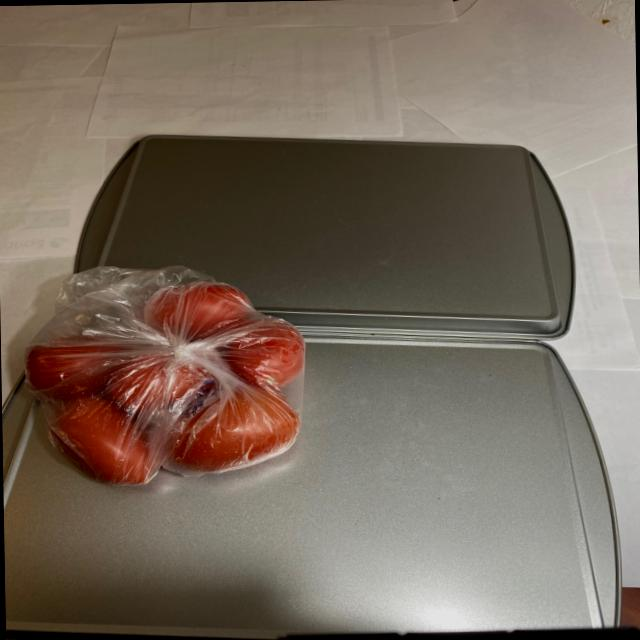tomato: (22, 280, 314, 495)
